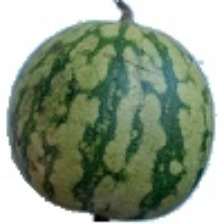watermelon: (16, 26, 165, 196)
